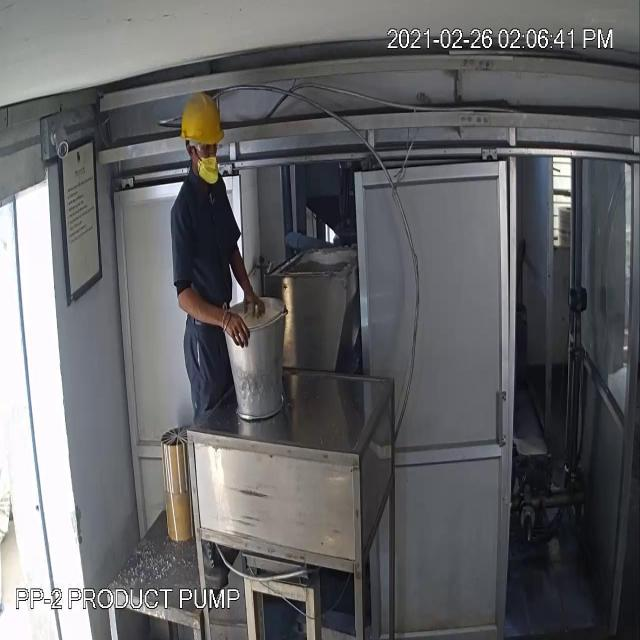helmet: (176, 83, 228, 152)
